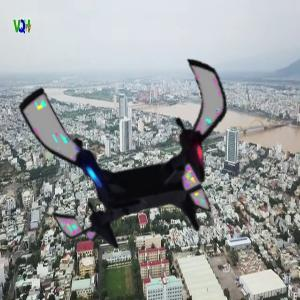drone: (28, 39, 251, 262)
